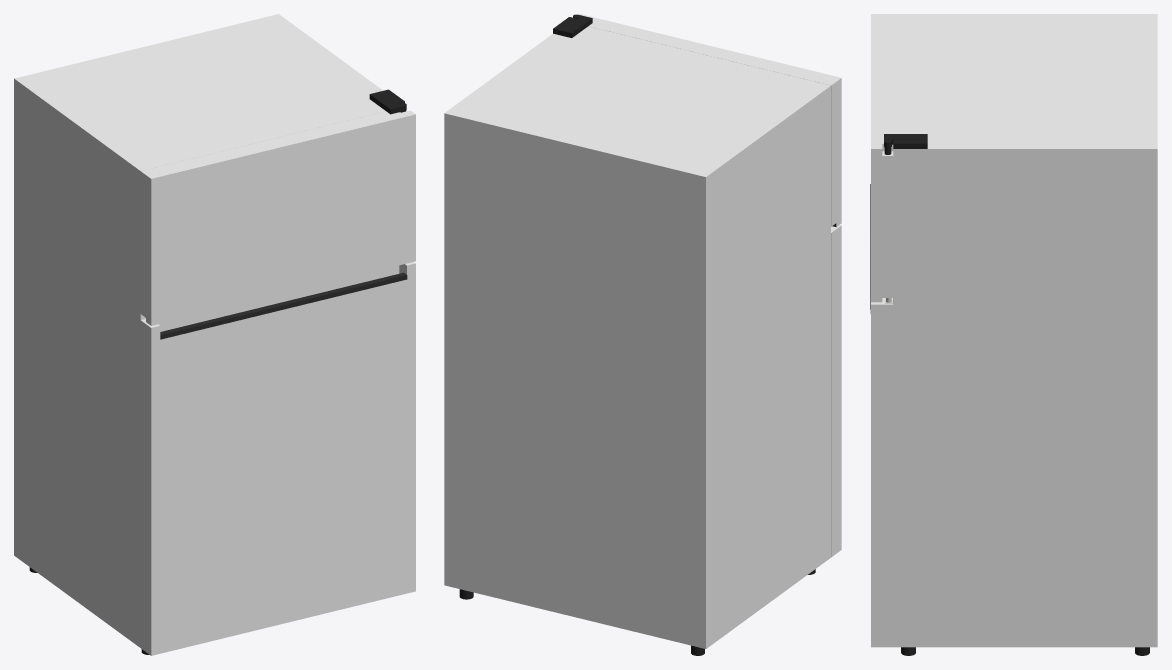
Rendered from Refrigerator07.fbx.
3 views of the same model, side by side, from view 1: azimuth 30°, elevation 25°; view 2: azimuth 150°, elevation 25°; view 3: azimuth 270°, elevation 25° (orthographic). The views are drawn at different scales.
Parts seen in each view (by area): view 1: Refrigerator07, Refrigerator07_Door02, Refrigerator07_Door01; view 2: Refrigerator07, Refrigerator07_Door01, Refrigerator07_Door02; view 3: Refrigerator07, Refrigerator07_Door02, Refrigerator07_Door01.
Part boxes in pixels (x1=…): Refrigerator07: x1=14, y1=14, x2=406, y2=654; Refrigerator07_Door02: x1=140, y1=262, x2=415, y2=655; Refrigerator07_Door01: x1=140, y1=110, x2=415, y2=325; Refrigerator07: x1=444, y1=14, x2=830, y2=655; Refrigerator07_Door01: x1=579, y1=14, x2=841, y2=227; Refrigerator07_Door02: x1=831, y1=225, x2=841, y2=557; Refrigerator07: x1=884, y1=14, x2=1157, y2=655; Refrigerator07_Door02: x1=870, y1=184, x2=893, y2=647; Refrigerator07_Door01: x1=871, y1=14, x2=893, y2=302.
Size of the model in its own units: 80.02 by 143 by 71.96.
